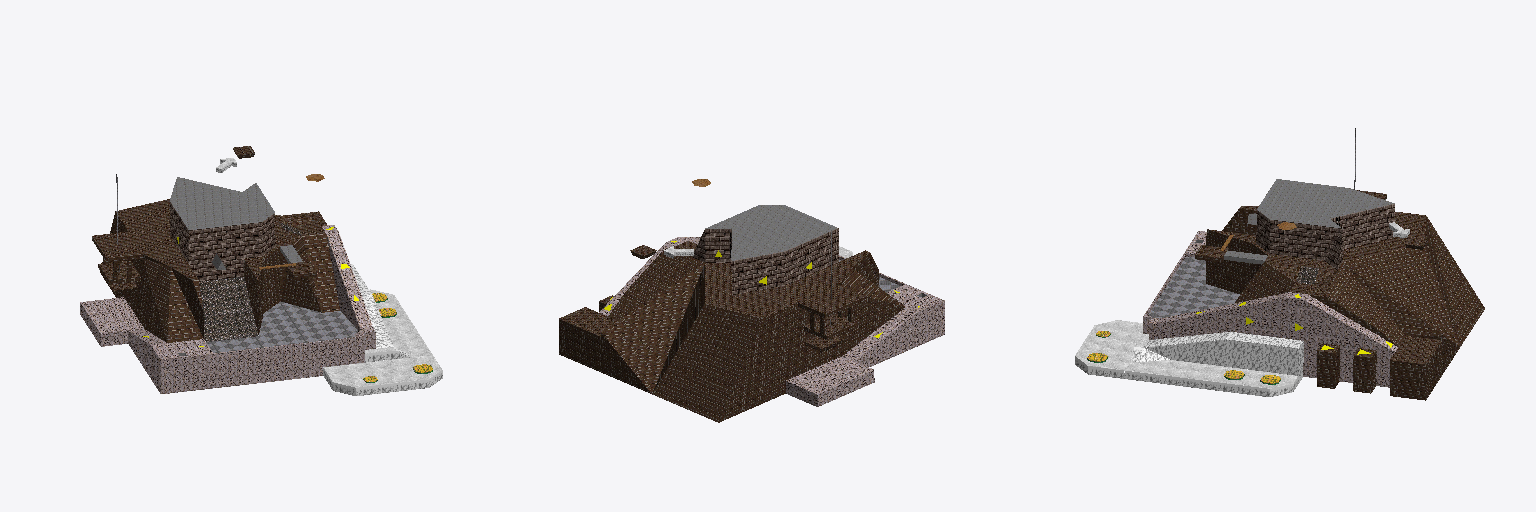
3 renders of one model, left to right at view 1: azimuth 30°, elevation 25°; view 2: azimuth 150°, elevation 25°; view 3: azimuth 270°, elevation 25°, orthographic.
Parts seen in each view (by area): view 1: 017_30E48A81_c.bmp, 012_2C725067_c.bmp, 016_29730C45_c.bmp, 011_59A41B70_c.bmp, 014_710C9EF6_c.bmp, 010_53DCECCE_c.bmp, 013_2CF33CF6_c.bmp, 057_30E48A81_c.bmp, 046_29F6A68D_c.bmp, 051_29F6A68D_c.bmp, 055_59A41B70_c.bmp, 045_DDBFFE4_c.bmp (+2 smaller); view 2: 012_2C725067_c.bmp, 011_59A41B70_c.bmp, 057_30E48A81_c.bmp, 016_29730C45_c.bmp, 014_710C9EF6_c.bmp, 017_30E48A81_c.bmp, 055_59A41B70_c.bmp, 056_2C725067_c.bmp; view 3: 012_2C725067_c.bmp, 017_30E48A81_c.bmp, 016_29730C45_c.bmp, 011_59A41B70_c.bmp, 009_4D3B21B2_c.bmp, 014_710C9EF6_c.bmp, 010_53DCECCE_c.bmp, 051_29F6A68D_c.bmp, 046_29F6A68D_c.bmp, 050_DDBFFE4_c.bmp, 074_2C725067_c.bmp, 072_2C725067_c.bmp (+2 smaller).
Boxes of the visible parts, box(x1,y1,x2,y2) form: 017_30E48A81_c.bmp: box(151, 225, 375, 393); 012_2C725067_c.bmp: box(100, 211, 339, 342); 016_29730C45_c.bmp: box(170, 202, 275, 281); 011_59A41B70_c.bmp: box(116, 199, 326, 280); 014_710C9EF6_c.bmp: box(170, 177, 274, 355); 010_53DCECCE_c.bmp: box(206, 302, 357, 352); 013_2CF33CF6_c.bmp: box(199, 277, 258, 341); 057_30E48A81_c.bmp: box(80, 297, 165, 377); 046_29F6A68D_c.bmp: box(323, 355, 441, 387); 051_29F6A68D_c.bmp: box(370, 289, 432, 356); 055_59A41B70_c.bmp: box(92, 232, 142, 290); 045_DDBFFE4_c.bmp: box(323, 368, 442, 395); 012_2C725067_c.bmp: box(559, 252, 904, 422); 011_59A41B70_c.bmp: box(559, 241, 869, 336); 057_30E48A81_c.bmp: box(786, 307, 917, 406); 016_29730C45_c.bmp: box(692, 228, 838, 294); 014_710C9EF6_c.bmp: box(705, 205, 926, 297); 017_30E48A81_c.bmp: box(666, 237, 944, 345); 055_59A41B70_c.bmp: box(799, 285, 864, 348); 056_2C725067_c.bmp: box(798, 297, 864, 351); 012_2C725067_c.bmp: box(1206, 208, 1484, 400); 017_30E48A81_c.bmp: box(1143, 231, 1394, 387); 016_29730C45_c.bmp: box(1256, 204, 1394, 270); 011_59A41B70_c.bmp: box(1223, 206, 1441, 364); 009_4D3B21B2_c.bmp: box(1145, 332, 1303, 383); 014_710C9EF6_c.bmp: box(1195, 179, 1394, 242); 010_53DCECCE_c.bmp: box(1149, 257, 1239, 318); 051_29F6A68D_c.bmp: box(1125, 360, 1297, 388); 046_29F6A68D_c.bmp: box(1075, 320, 1142, 370); 050_DDBFFE4_c.bmp: box(1124, 347, 1297, 396); 074_2C725067_c.bmp: box(1353, 350, 1376, 393); 072_2C725067_c.bmp: box(1317, 347, 1339, 388).
Size of the model in its own units: 8.52 by 4.71 by 11.13.
Materials: 48 (15 with a texture image).